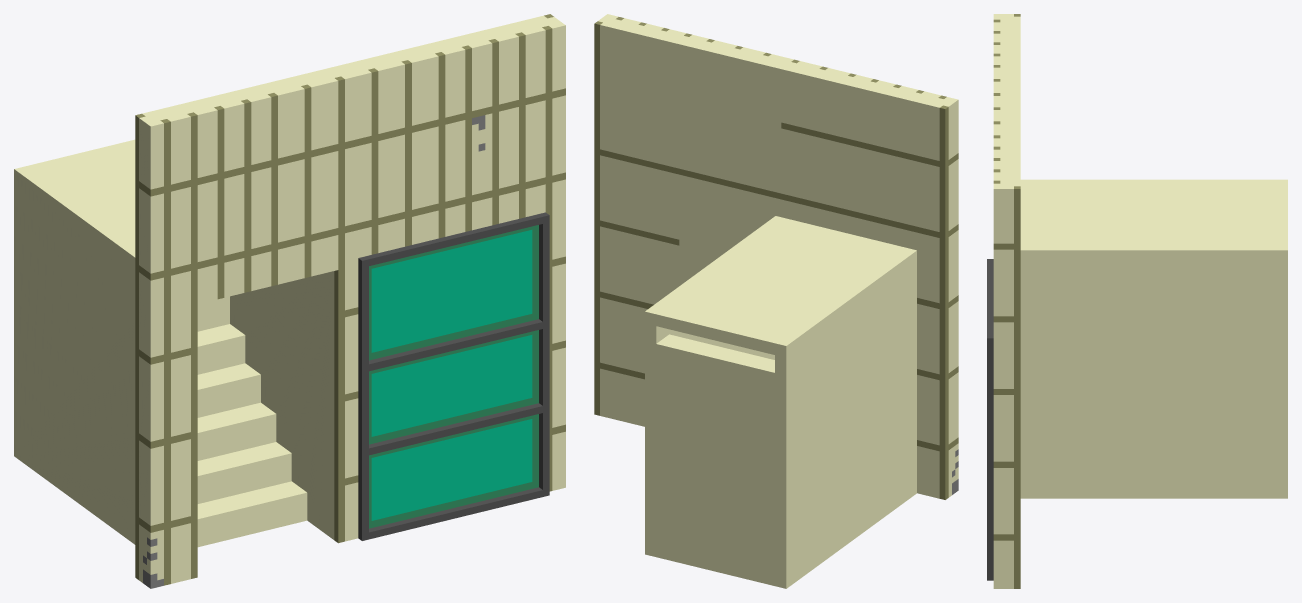
Rendered from retroTwo.glb.
3 renders of one model, left to right at view 1: azimuth 30°, elevation 25°; view 2: azimuth 150°, elevation 25°; view 3: azimuth 270°, elevation 25°, orthographic. The views are drawn at different scales.
Parts seen in each view (by area): view 1: ObjObject; view 2: ObjObject; view 3: ObjObject.
Boxes of the visible parts, x1,y1,x2,y2 form: ObjObject: (14, 14, 565, 588); ObjObject: (594, 14, 958, 588); ObjObject: (987, 14, 1287, 588).
Bounding box in the file's own units: 6.2 × 6.6 × 4.5.
1 material, 1 textured.
